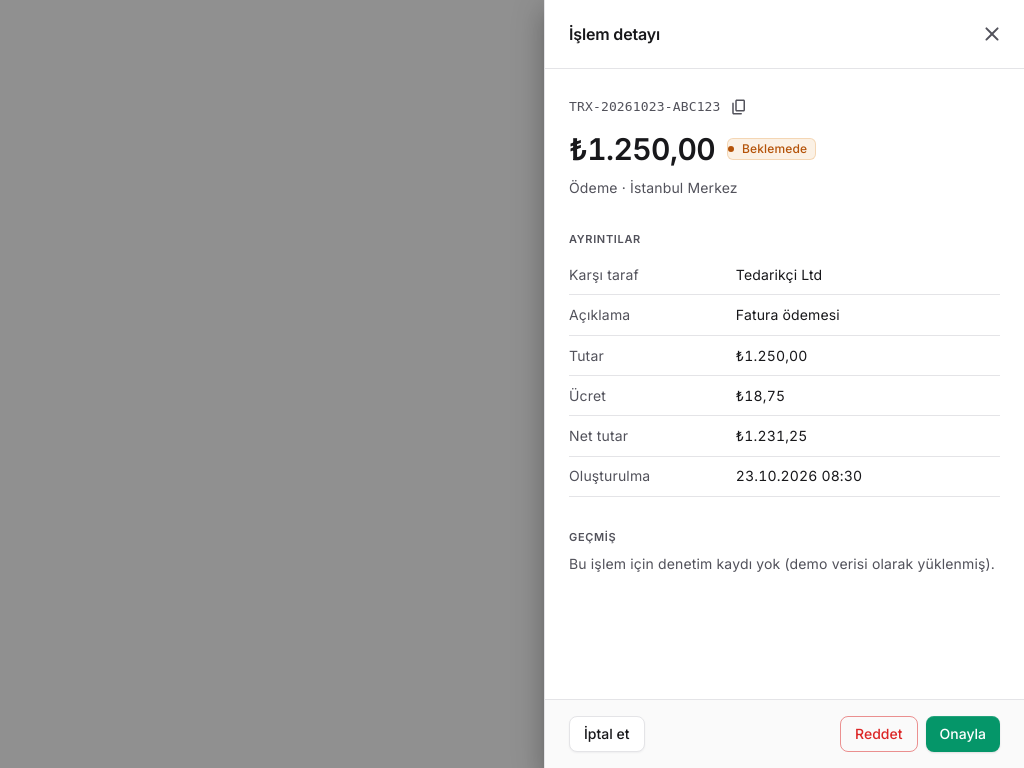
Test case: transaction drawer › lets a manager approve someone else's pending transaction
The width and height of the screenshot is (1024, 768).
Click the button "Onayla" at {"x": 963, "y": 734}, box [926,716,1000,752]
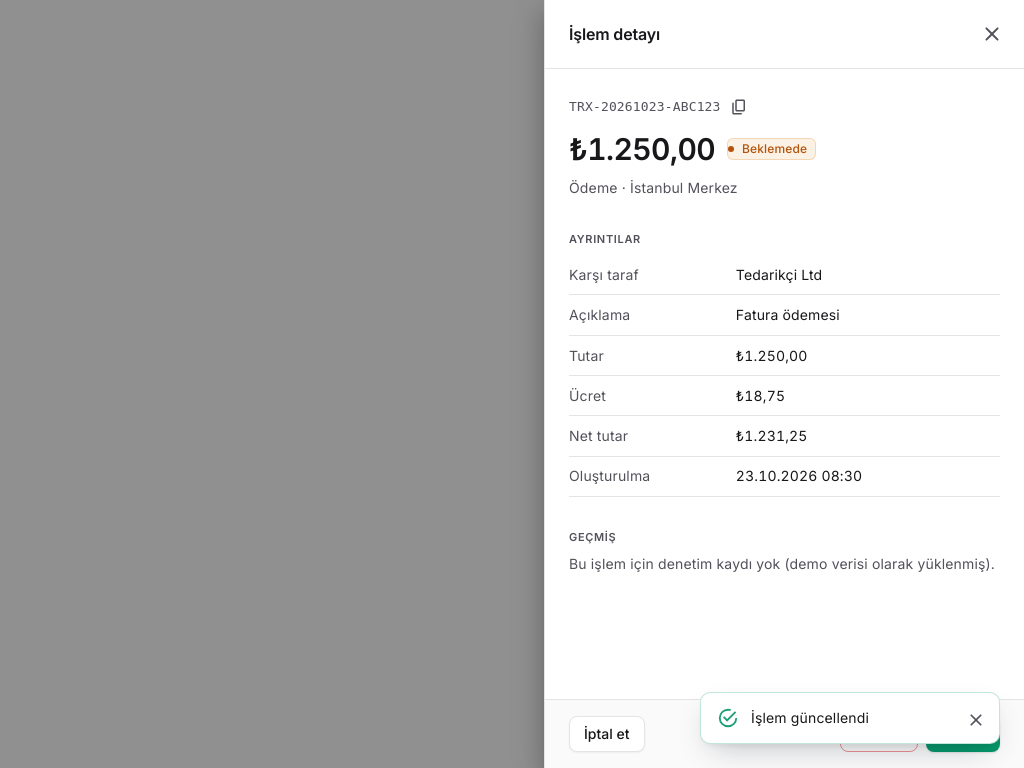
Expected: the text "İşlem güncellendi" is shown, [751,709,869,726]
